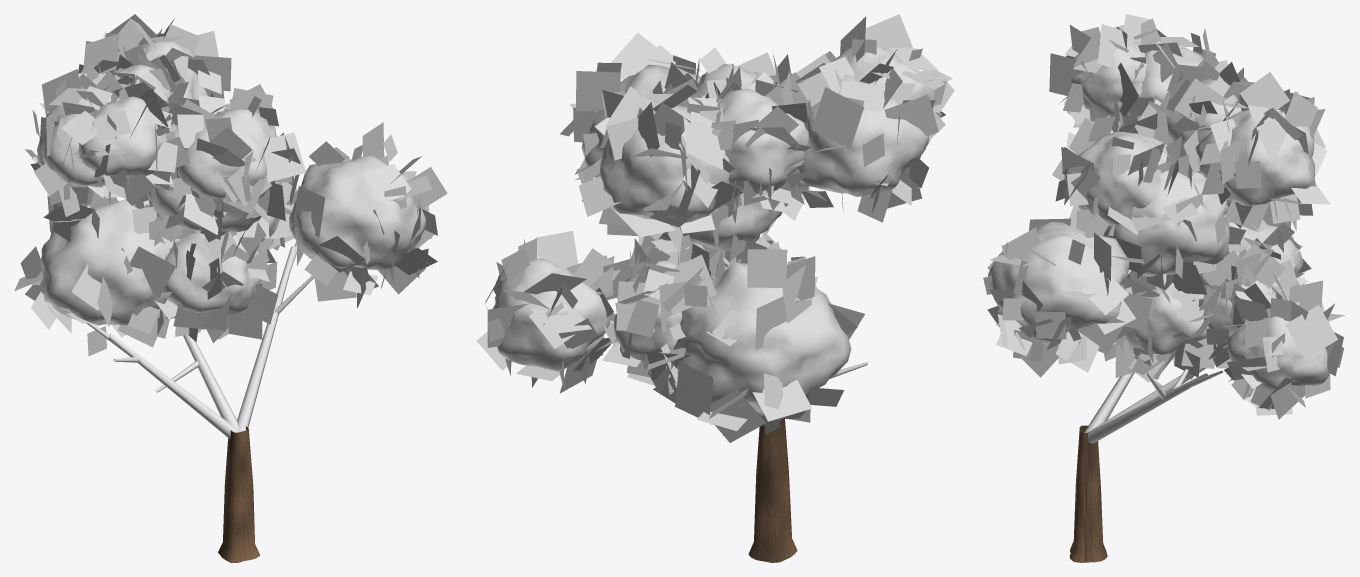
File: peach_tree_a.dae
3 views of the same model, side by side, from view 1: azimuth 30°, elevation 25°; view 2: azimuth 150°, elevation 25°; view 3: azimuth 270°, elevation 25° (orthographic). The views are drawn at different scales.
Parts seen in each view (by area): view 1: canopy, branches, trunk, leaf_card.576, leaf_card.512, leaf_card.146, leaf_card.078, leaf_card.319, leaf_card.403, leaf_card.212, leaf_card.335, leaf_card.541 (+20 smaller); view 2: canopy, trunk, leaf_card.513, leaf_card.551, leaf_card.532, leaf_card.321, leaf_card.123, leaf_card.078, leaf_card.192, leaf_card.263, leaf_card.186, leaf_card.409 (+23 smaller); view 3: canopy, trunk, branches, leaf_card.484, leaf_card.431, leaf_card.184, leaf_card.115, leaf_card.144, leaf_card.125, leaf_card.313, leaf_card.333, leaf_card.040 (+35 smaller).
Part boxes in pixels (left/top/right/bottom): canopy: left=37, top=40, right=425, bottom=325; branches: left=86, top=242, right=314, bottom=438; trunk: left=218, top=426, right=260, bottom=562; leaf_card.576: left=256, top=132, right=305, bottom=182; leaf_card.512: left=130, top=246, right=175, bottom=297; leaf_card.146: left=362, top=164, right=411, bottom=202; leaf_card.078: left=83, top=33, right=119, bottom=73; leaf_card.319: left=293, top=186, right=325, bottom=237; leaf_card.403: left=228, top=304, right=262, bottom=339; leaf_card.212: left=314, top=271, right=356, bottom=301; leaf_card.335: left=93, top=110, right=131, bottom=141; leaf_card.541: left=407, top=167, right=447, bottom=209; canopy: left=492, top=45, right=936, bottom=413; trunk: left=748, top=419, right=797, bottom=562; leaf_card.513: left=811, top=87, right=863, bottom=149; leaf_card.551: left=675, top=361, right=713, bottom=417; leaf_card.532: left=747, top=249, right=787, bottom=287; leaf_card.321: left=576, top=71, right=620, bottom=111; leaf_card.123: left=611, top=32, right=675, bottom=79; leaf_card.078: left=683, top=114, right=723, bottom=170; leaf_card.192: left=710, top=389, right=765, bottom=442; leaf_card.263: left=884, top=94, right=938, bottom=135; leaf_card.186: left=535, top=231, right=578, bottom=268; leaf_card.409: left=865, top=14, right=912, bottom=52; canopy: left=988, top=41, right=1329, bottom=390; trunk: left=1069, top=425, right=1107, bottom=562; branches: left=1084, top=367, right=1222, bottom=443; leaf_card.484: left=1285, top=305, right=1337, bottom=358; leaf_card.431: left=1240, top=72, right=1289, bottom=110; leaf_card.184: left=1081, top=271, right=1128, bottom=315; leaf_card.115: left=1049, top=53, right=1082, bottom=95; leaf_card.144: left=1201, top=250, right=1257, bottom=297; leaf_card.125: left=1097, top=24, right=1134, bottom=67; leaf_card.313: left=1055, top=331, right=1099, bottom=372; leaf_card.333: left=1256, top=118, right=1286, bottom=162; leaf_card.040: left=1285, top=91, right=1317, bottom=127.
Bounding box in the file's own units: 1.68 × 1.52 × 2.26.
Materials: 3 (1 with a texture image).
